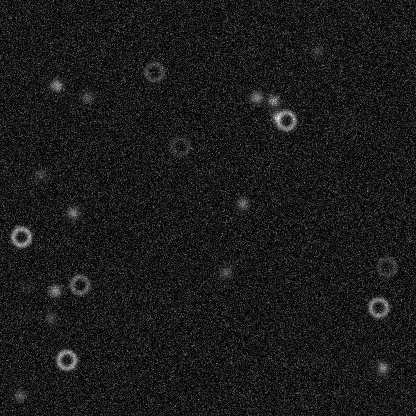Ring: (273, 108, 297, 132), (374, 254, 398, 278), (142, 59, 166, 83), (366, 295, 390, 319), (54, 347, 78, 371), (167, 134, 191, 158), (67, 272, 91, 296), (9, 224, 33, 248)
Spot: (248, 89, 264, 105), (11, 387, 27, 403), (308, 43, 324, 59), (217, 264, 233, 280), (32, 166, 48, 182), (374, 359, 390, 375), (268, 108, 284, 124), (48, 77, 64, 93), (42, 309, 58, 325), (65, 204, 81, 220), (79, 89, 95, 105), (265, 92, 281, 108), (19, 279, 35, 295), (46, 282, 62, 298), (234, 195, 250, 211)
